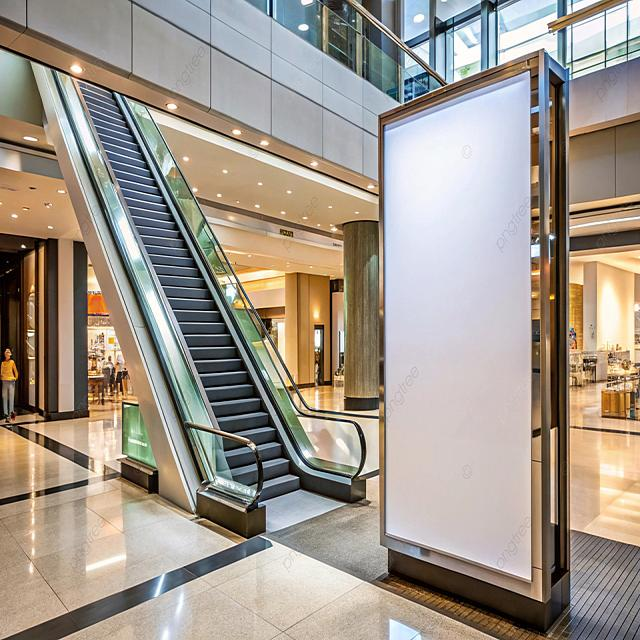escalator: (23, 57, 371, 548)
